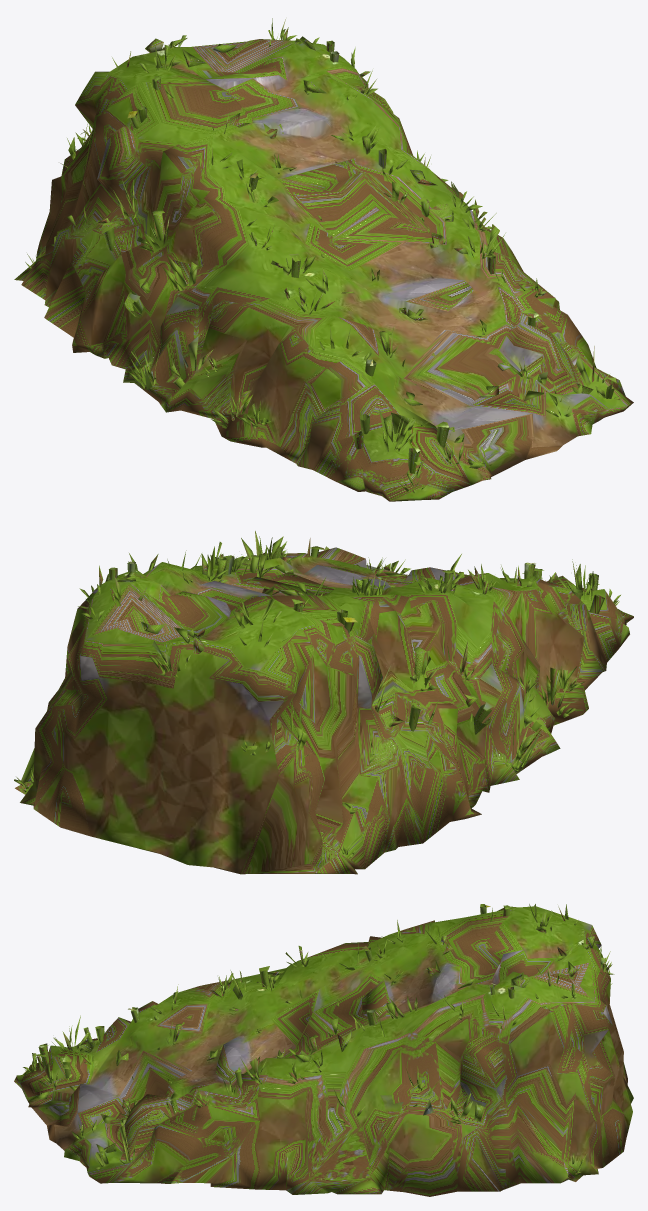
File: embankment.glb
3 renders of one model, top to bottom at view 1: azimuth 30°, elevation 25°; view 2: azimuth 150°, elevation 25°; view 3: azimuth 270°, elevation 25°, orthographic. The views are drawn at different scales.
Size of the model in its own units: 0.6103 by 0.3192 by 0.9565.
1 material, 1 textured.
